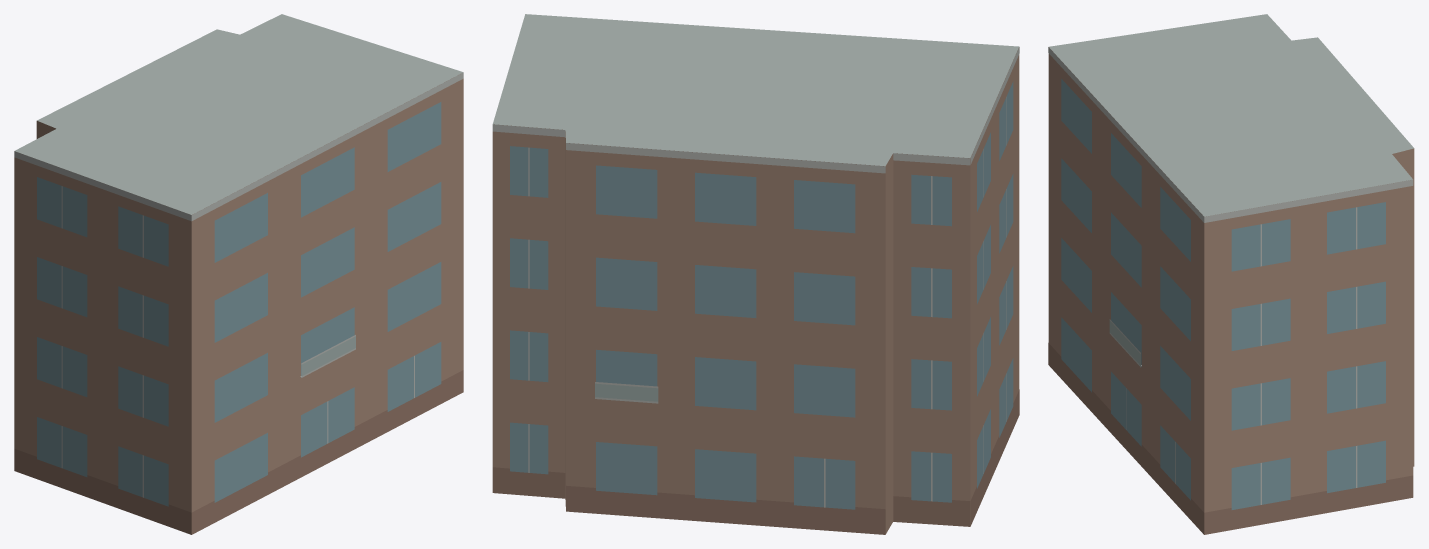
File: survey-upis-32835593.glb
The picture shows the model from 3 angles, left to right: view 1: azimuth 30°, elevation 25°; view 2: azimuth 150°, elevation 25°; view 3: azimuth 270°, elevation 25°; orthographic projection. The views are drawn at different scales.
Parts seen in each view (by area): view 1: survey-upis-32835593.tmp; view 2: survey-upis-32835593.tmp; view 3: survey-upis-32835593.tmp.
Boxes of the visible parts, x1,y1,x2,y2 form: survey-upis-32835593.tmp: (14,14,463,534); survey-upis-32835593.tmp: (492,14,1019,534); survey-upis-32835593.tmp: (1048,14,1414,534).
Size of the model in its own units: 16.96 by 12.4 by 12.94.
